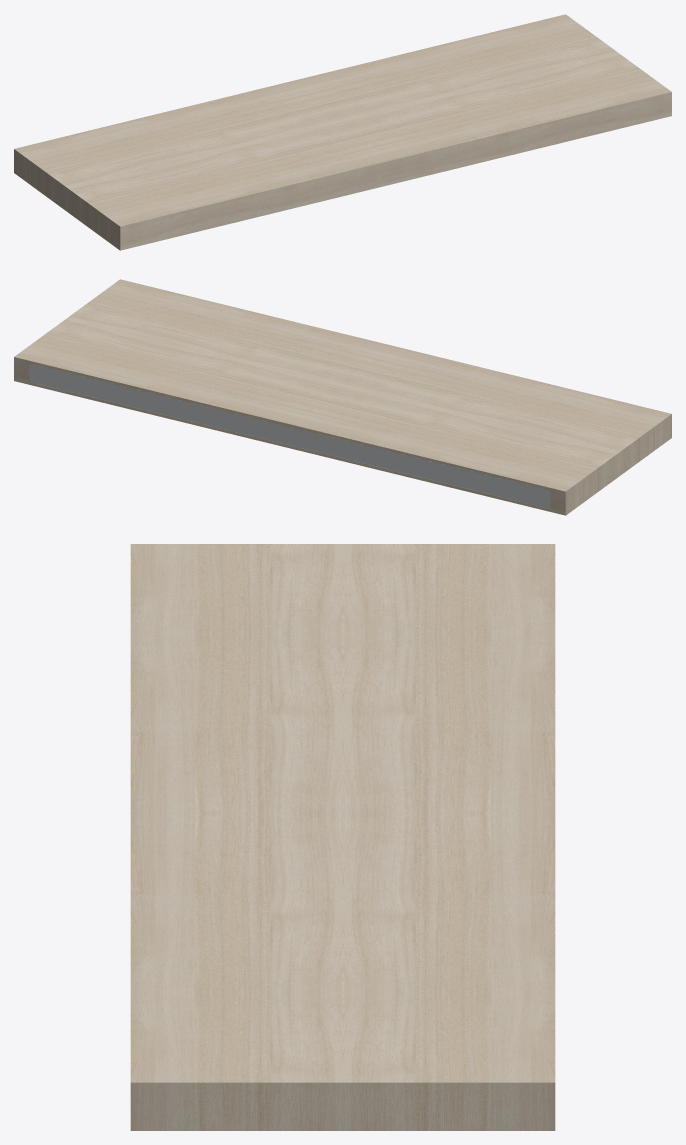
The model's file is shelf-hovr-led.glb.
The picture shows the model from 3 angles, top to bottom: view 1: azimuth 30°, elevation 25°; view 2: azimuth 150°, elevation 25°; view 3: azimuth 270°, elevation 25°; orthographic projection. The views are drawn at different scales.
Parts seen in each view (by area): view 1: shelf-hovr-led; view 2: shelf-hovr-led; view 3: shelf-hovr-led.
Part boxes in pixels (x1,y1,x2,y2): shelf-hovr-led: (14,14,671,250); shelf-hovr-led: (14,279,671,515); shelf-hovr-led: (130,544,555,1130).
Bounding box in the file's own units: 0.9144 × 0.0381 × 0.3048.
2 materials, 1 textured.
